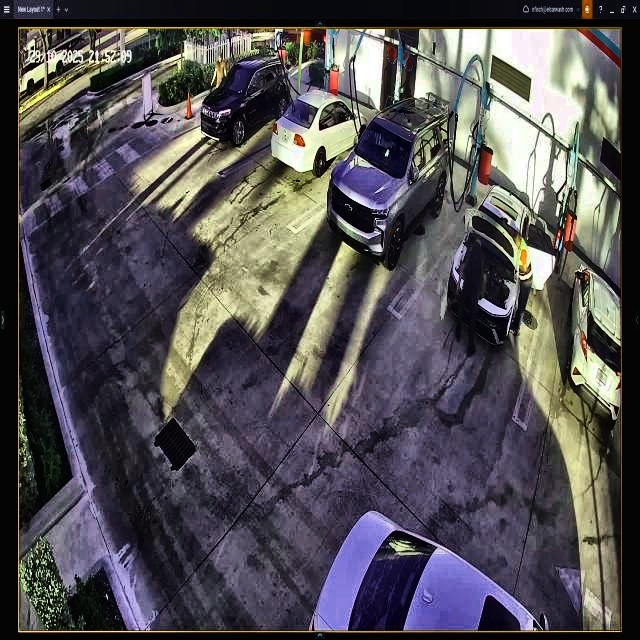Car: (332, 97, 453, 264), (450, 185, 550, 343), (274, 89, 365, 173), (200, 59, 289, 143)
